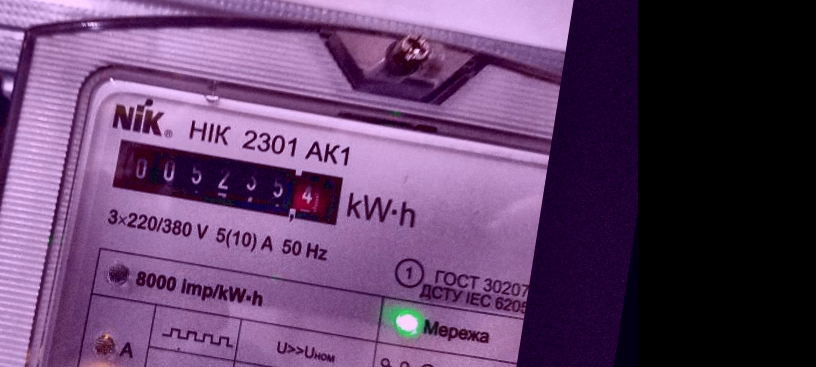0: (131, 153, 151, 181), (160, 156, 178, 183)
2: (215, 163, 232, 190)
3: (243, 166, 260, 192)
4: (298, 178, 317, 206)
5: (269, 171, 288, 200), (187, 159, 206, 187)
screen: (101, 128, 357, 235)
